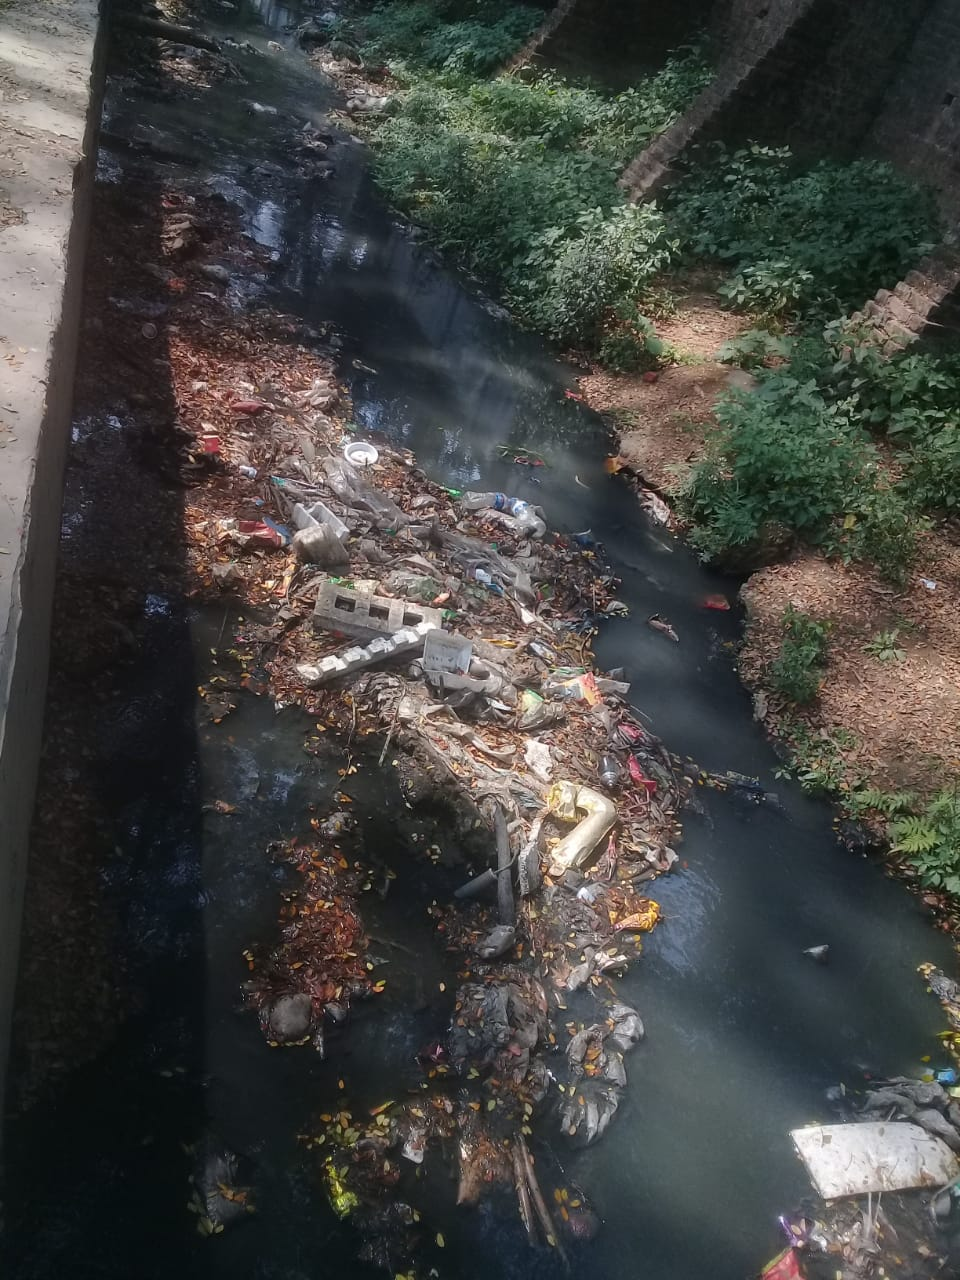Plastic Bottle: (384, 569, 437, 601), (512, 497, 547, 537), (485, 508, 530, 535), (463, 491, 511, 509), (935, 1191, 960, 1215), (268, 40, 282, 48)
